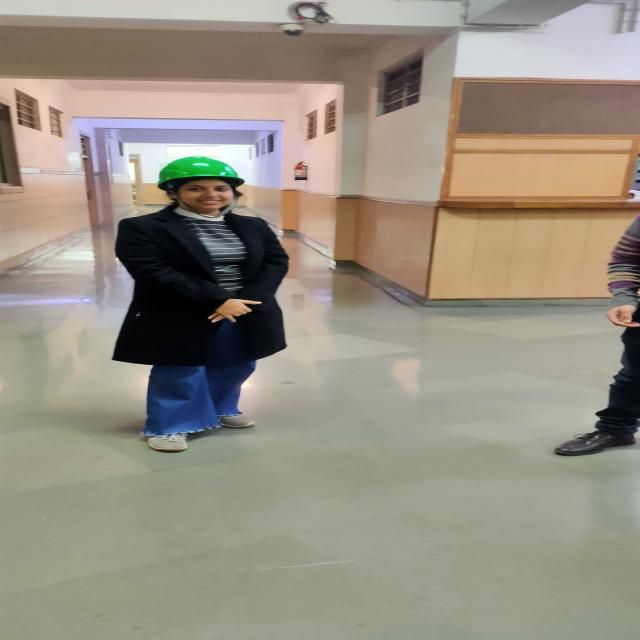no jacket: (113, 154, 290, 452)
